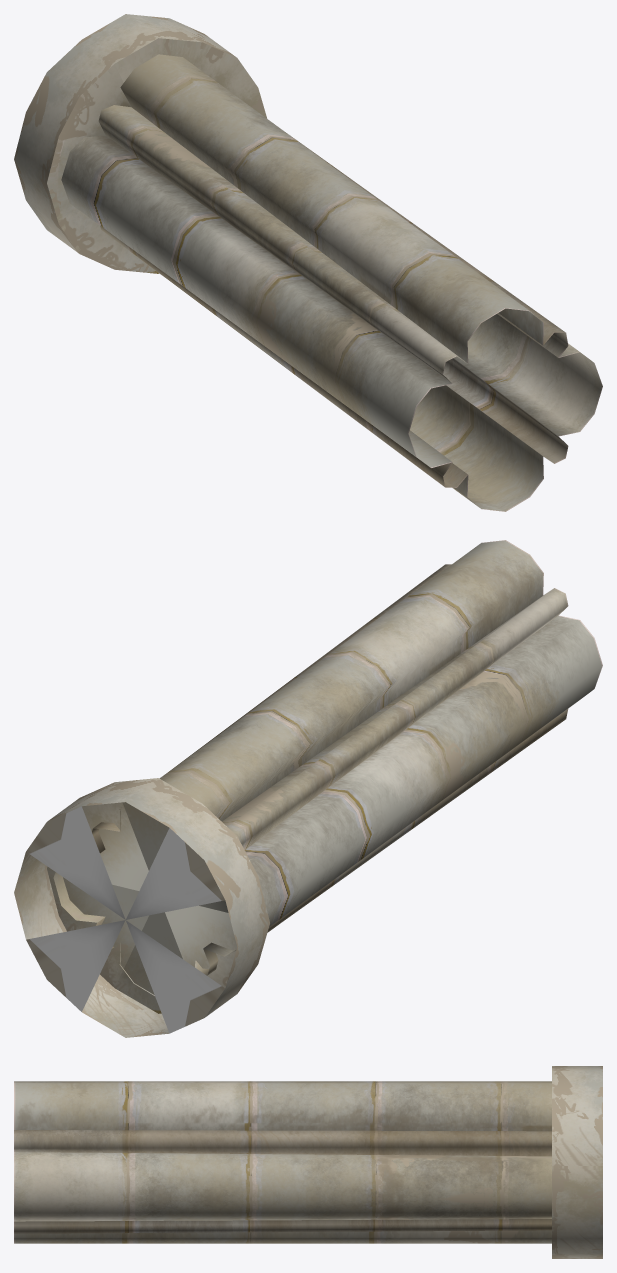
The model's file is Cath_FulBcolumn.fbx.
3 renders of one model, top to bottom at view 1: azimuth 30°, elevation 25°; view 2: azimuth 150°, elevation 25°; view 3: azimuth 270°, elevation 25°, orthographic. The views are drawn at different scales.
Visible parts, largest first — view 1: Cath_FulBcolumn; view 2: Cath_FulBcolumn; view 3: Cath_FulBcolumn.
Part boxes in pixels (x1,y1,x2,y2): Cath_FulBcolumn: (14,14,602,511); Cath_FulBcolumn: (14,540,602,1037); Cath_FulBcolumn: (14,1066,602,1258).
Size of the model in its own units: 138 by 140 by 408.
